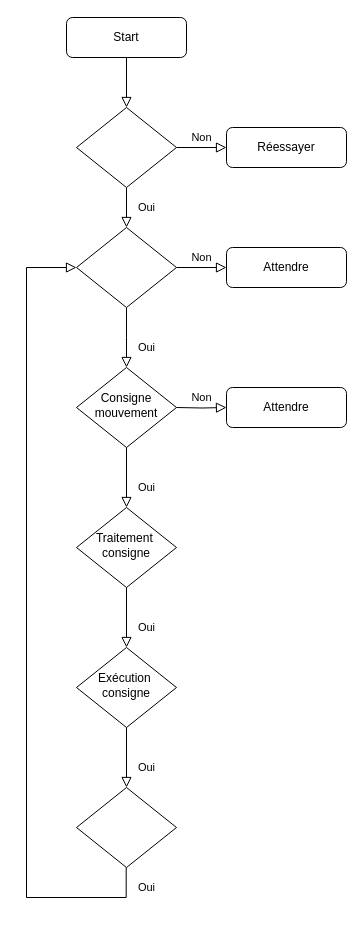
Some shapes in this 364 by 925 pixel diagram are drawn without their labels. The shapes that lost their labels are listed below. From the top down, each one's box as (x1, y1, x2, y2) in pixels, then its label:
(76, 106, 176, 188): Connexion
(76, 226, 176, 308): Autorisation mouvement
(76, 786, 176, 868): Fin exécution
